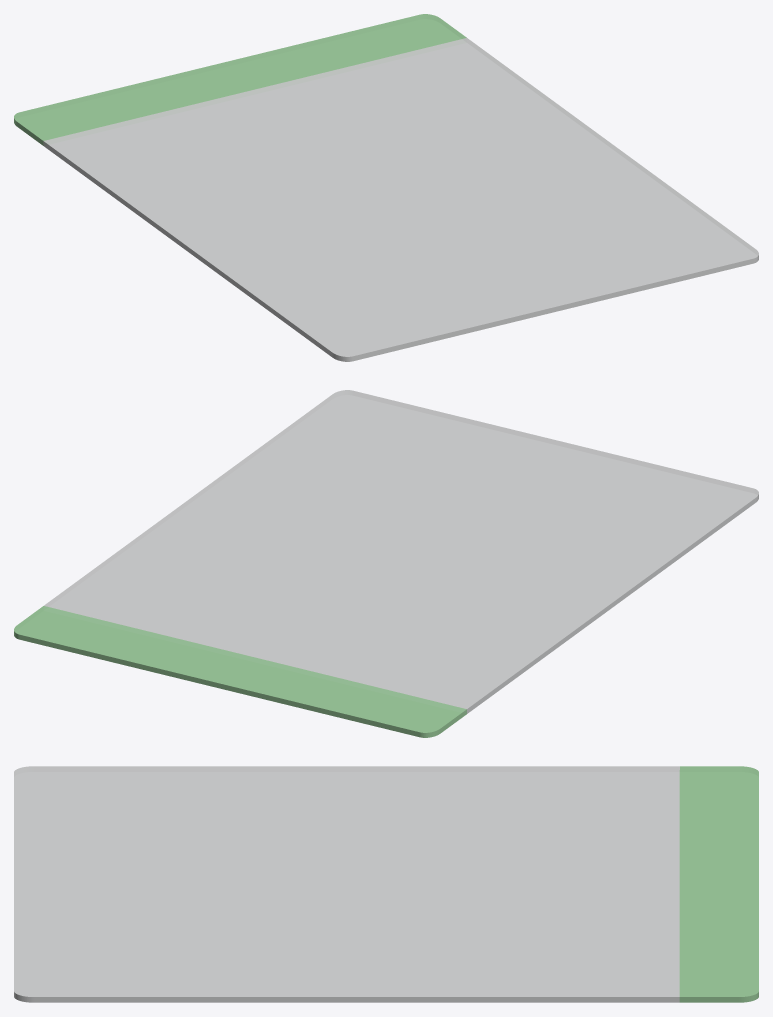
File: Detail_Card.fbx
3 views of the same model, one above another, from view 1: azimuth 30°, elevation 25°; view 2: azimuth 150°, elevation 25°; view 3: azimuth 270°, elevation 25° (orthographic). The views are drawn at different scales.
Parts seen in each view (by area): view 1: Plane.001; view 2: Plane.001; view 3: Plane.001.
Boxes of the visible parts, x1,y1,x2,y2 form: Plane.001: (14,14,758,361); Plane.001: (14,390,758,737); Plane.001: (14,766,758,1002).
Size of the model in its own units: 440 by 5 by 600.
